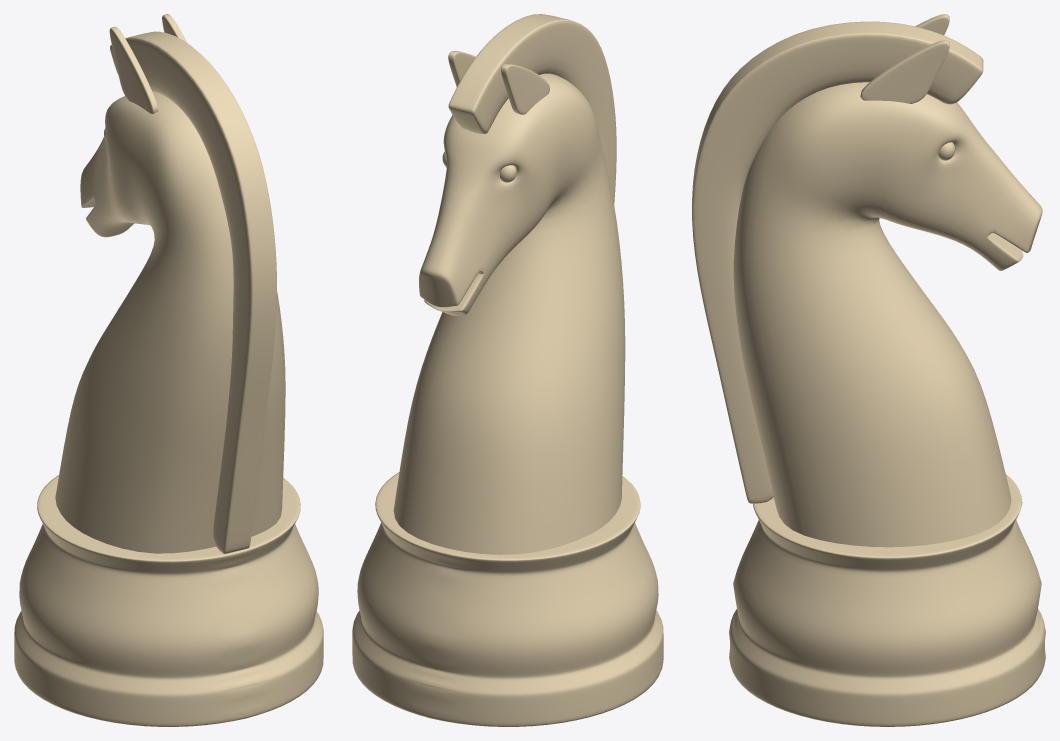
File: gercektam_n_w.glb
3 views of the same model, side by side, from view 1: azimuth 30°, elevation 25°; view 2: azimuth 150°, elevation 25°; view 3: azimuth 270°, elevation 25° (orthographic). The views are drawn at different scales.
Visible parts, largest first — view 1: Plane.002; view 2: Plane.002; view 3: Plane.002.
Boxes of the visible parts, left/top/right/bottom form: Plane.002: left=14, top=14, right=323, bottom=726; Plane.002: left=352, top=14, right=663, bottom=726; Plane.002: left=692, top=14, right=1045, bottom=726.
Size of the model in its own units: 1.06 by 2.34 by 1.18.
